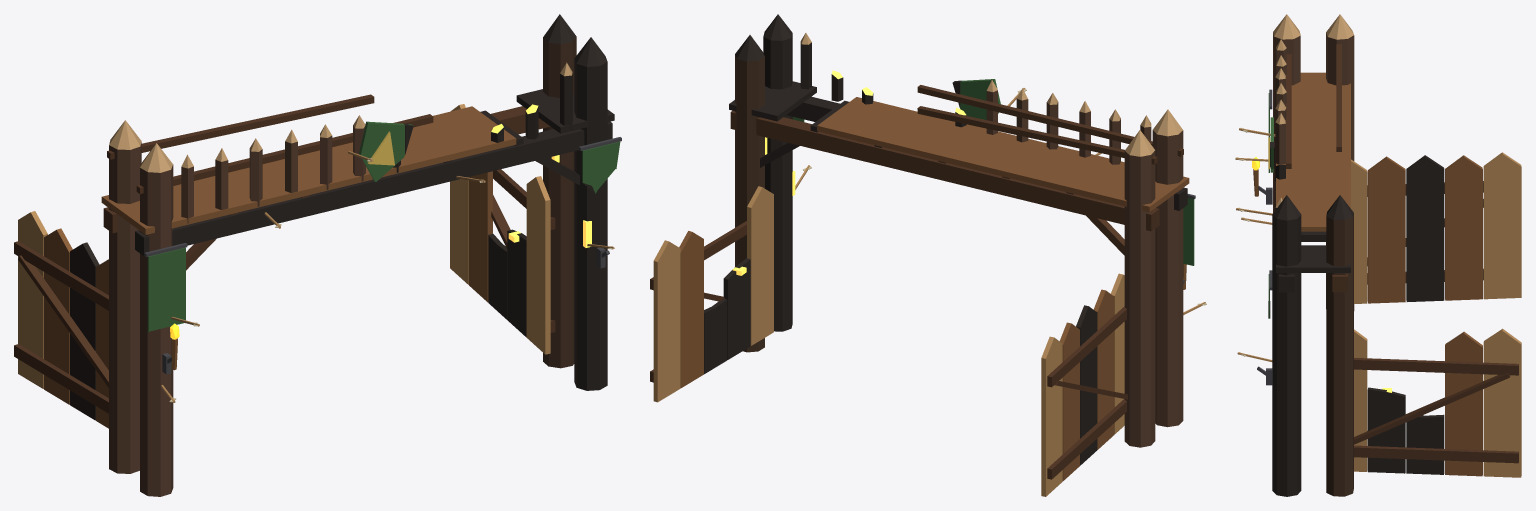
The model's file is Palisade_Tor_Beschaedigt.fbx.
3 views of the same model, side by side, from view 1: azimuth 30°, elevation 25°; view 2: azimuth 150°, elevation 25°; view 3: azimuth 270°, elevation 25° (orthographic). The views are drawn at different scales.
Visible parts, largest first — view 1: Palisade_Tor_Beschaedigt; view 2: Palisade_Tor_Beschaedigt; view 3: Palisade_Tor_Beschaedigt.
Part boxes in pixels (<box>): Palisade_Tor_Beschaedigt: <box>14,14,621,496</box>; Palisade_Tor_Beschaedigt: <box>650,14,1206,496</box>; Palisade_Tor_Beschaedigt: <box>1235,14,1521,496</box>.
Size of the model in its own units: 9.68 by 6.75 by 5.91.
